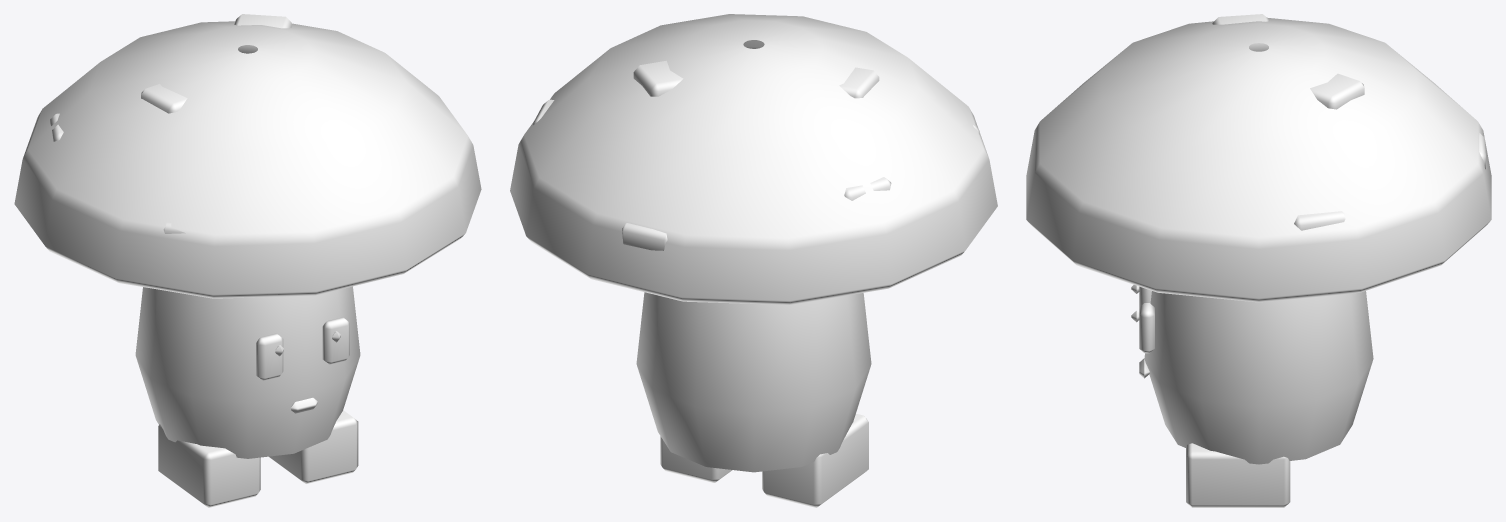
Rendered from khumbi.glb.
The picture shows the model from 3 angles, left to right: view 1: azimuth 30°, elevation 25°; view 2: azimuth 150°, elevation 25°; view 3: azimuth 270°, elevation 25°; orthographic projection. The views are drawn at different scales.
Visible parts, largest first — view 1: Cap, Stem, FootL, FootR; view 2: Cap, Stem, FootL, FootR; view 3: Cap, Stem, FootR.
Part boxes in pixels (x1=…): Cap: x1=14, y1=14, x2=481, y2=298; Stem: x1=135, y1=286, x2=360, y2=458; FootL: x1=158, y1=424, x2=260, y2=507; FootR: x1=269, y1=410, x2=358, y2=483; Cap: x1=510, y1=14, x2=997, y2=304; Stem: x1=636, y1=292, x2=871, y2=472; FootL: x1=762, y1=413, x2=868, y2=507; FootR: x1=660, y1=436, x2=732, y2=482; Cap: x1=1026, y1=14, x2=1491, y2=302; Stem: x1=1131, y1=285, x2=1373, y2=464; FootR: x1=1186, y1=443, x2=1290, y2=507.
Bounding box in the file's own units: 0.9161 × 0.9 × 0.8931.
Materials: 1 (1 with a texture image).
